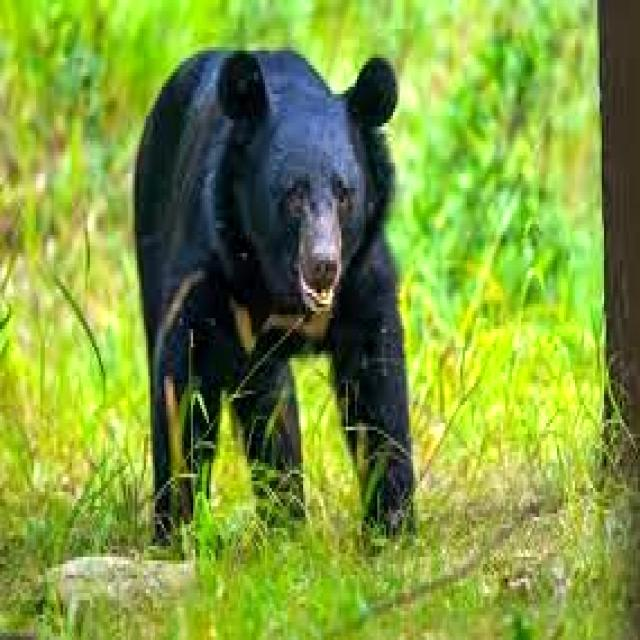bear: (120, 49, 454, 589)
